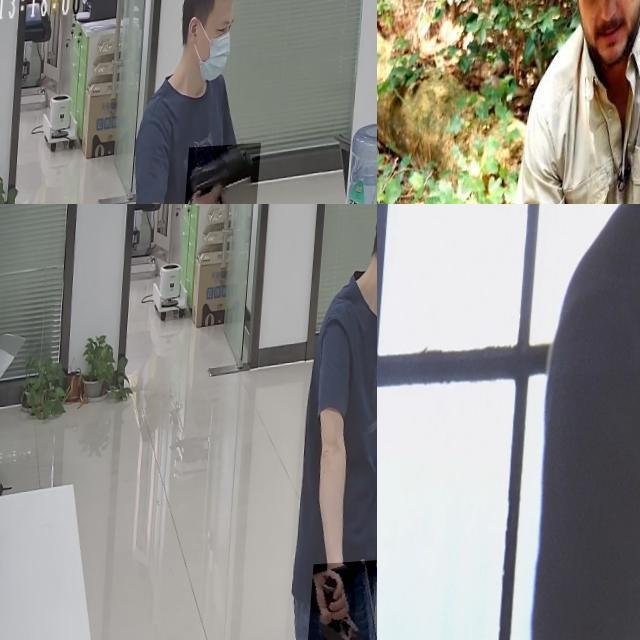gun-knife-thesis - v11 Yolov5 augmented: (377, 204, 456, 555), (313, 565, 377, 640), (186, 148, 263, 204)
